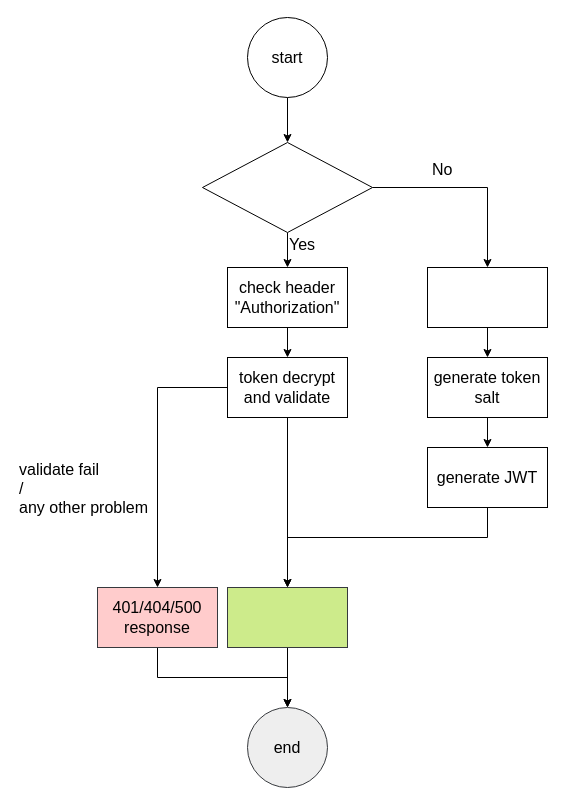
This 565x805 diagram has some shape labels left out. Here are the shapes that lost their labels. From the top down, the box of each, then its label:
(202, 142, 372, 232): is request needs token?
(426, 266, 548, 328): encrypt password
(226, 586, 348, 648): 200 response
